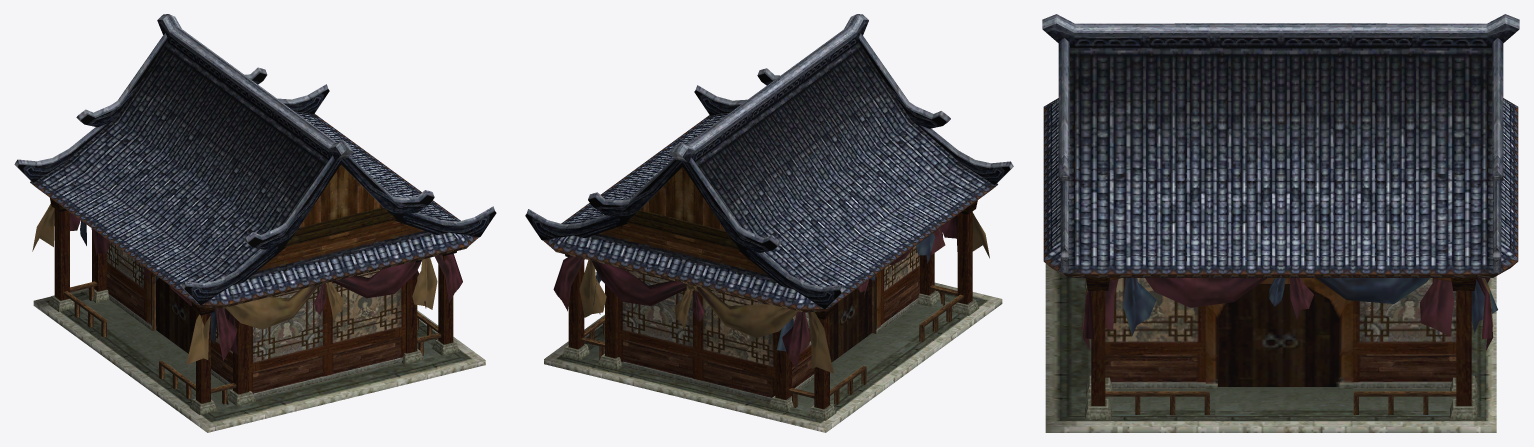
File: nsm-032-shamanhouse.fbx
The picture shows the model from 3 angles, left to right: view 1: azimuth 30°, elevation 25°; view 2: azimuth 150°, elevation 25°; view 3: azimuth 270°, elevation 25°; orthographic projection. The views are drawn at different scales.
Parts seen in each view (by area): view 1: 1; view 2: 1; view 3: 1.
Boxes of the visible parts, <box> form: 1: <box>14,14,496,432</box>; 1: <box>525,14,1013,432</box>; 1: <box>1042,14,1519,432</box>.
Bounding box in the file's own units: 9.89 × 7.73 × 10.11.
